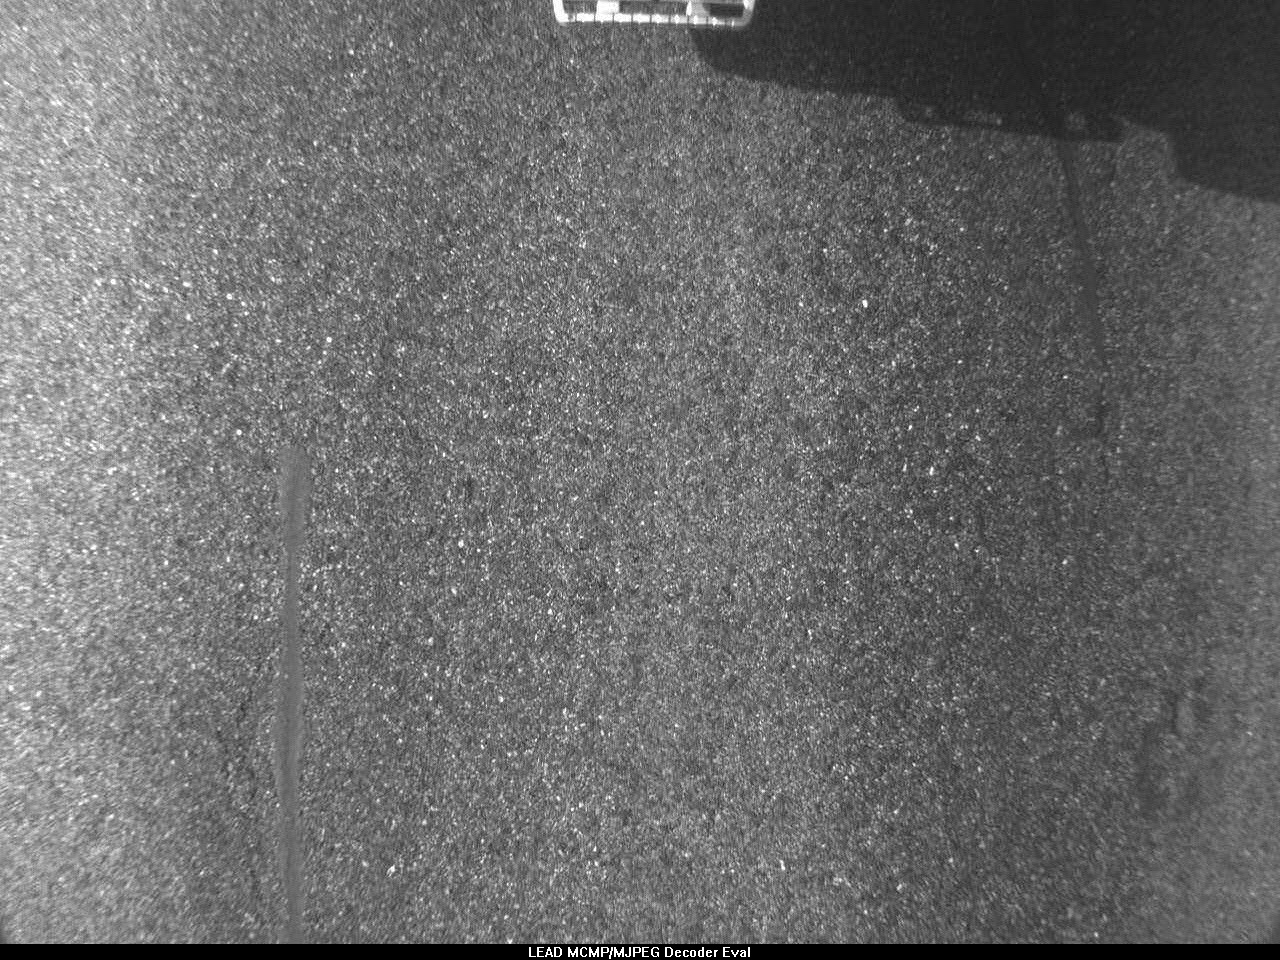sealed: (268, 446, 313, 932)
